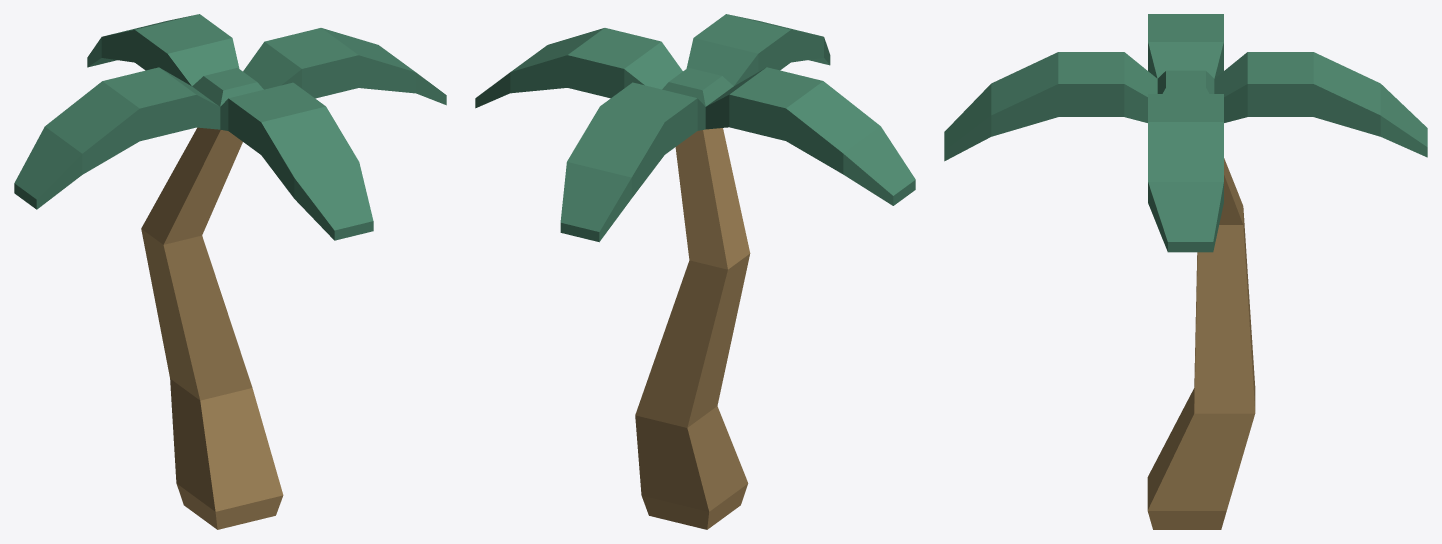
The model's file is naturePack_061.obj.
The picture shows the model from 3 angles, left to right: view 1: azimuth 30°, elevation 25°; view 2: azimuth 150°, elevation 25°; view 3: azimuth 270°, elevation 25°; orthographic projection.
Parts seen in each view (by area): view 1: Mesh2_Group3_Group1_Model, Mesh1_Group2_Group1_Model; view 2: Mesh2_Group3_Group1_Model, Mesh1_Group2_Group1_Model; view 3: Mesh2_Group3_Group1_Model, Mesh1_Group2_Group1_Model.
Boxes of the visible parts, x1,y1,x2,y2 form: Mesh2_Group3_Group1_Model: (14, 14, 446, 240); Mesh1_Group2_Group1_Model: (141, 127, 283, 529); Mesh2_Group3_Group1_Model: (475, 14, 915, 242); Mesh1_Group2_Group1_Model: (635, 128, 750, 529); Mesh2_Group3_Group1_Model: (944, 14, 1427, 252); Mesh1_Group2_Group1_Model: (1147, 158, 1255, 529).
Size of the model in its own units: 3.18 by 3.25 by 3.18.
